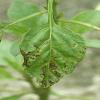Bell_pepper leaf spot: (17, 21, 89, 93)
